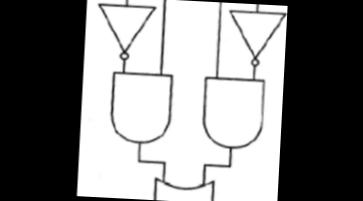and: (106, 68, 176, 146)
nand: (195, 72, 268, 156)
not: (225, 6, 287, 68), (94, 0, 157, 61)
or: (150, 173, 221, 201)
